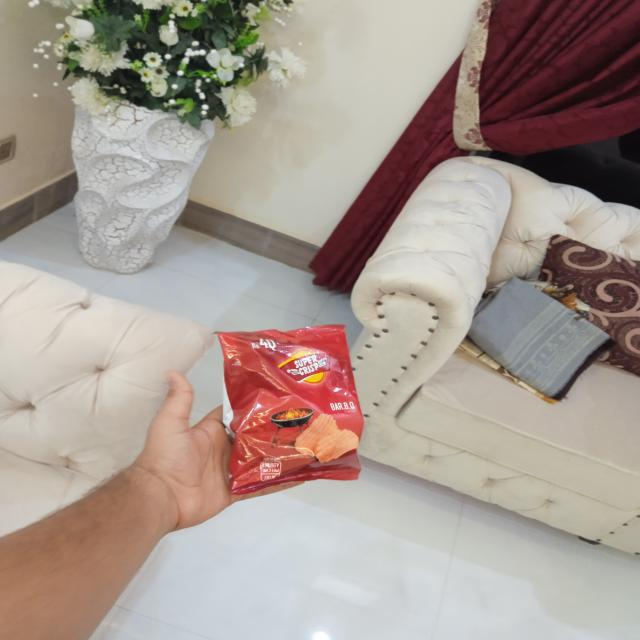Plastic: (214, 320, 374, 497)
